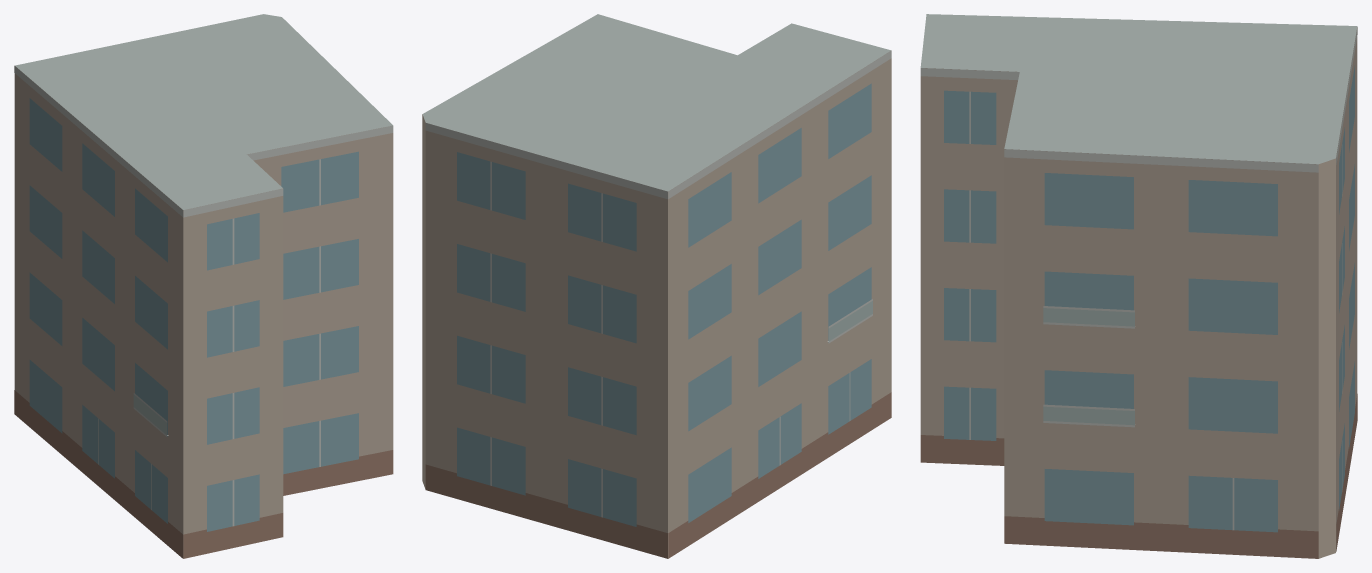
File: survey-upis-32859475.glb
The picture shows the model from 3 angles, left to right: view 1: azimuth 30°, elevation 25°; view 2: azimuth 150°, elevation 25°; view 3: azimuth 270°, elevation 25°; orthographic projection. The views are drawn at different scales.
Visible parts, largest first — view 1: survey-upis-32859475.tmp; view 2: survey-upis-32859475.tmp; view 3: survey-upis-32859475.tmp.
Part boxes in pixels (left/top/right/bottom): survey-upis-32859475.tmp: left=14, top=14, right=393, bottom=558; survey-upis-32859475.tmp: left=422, top=14, right=891, bottom=558; survey-upis-32859475.tmp: left=920, top=14, right=1357, bottom=558.
Bounding box in the file's own units: 9.4 × 11.5 × 11.55.
